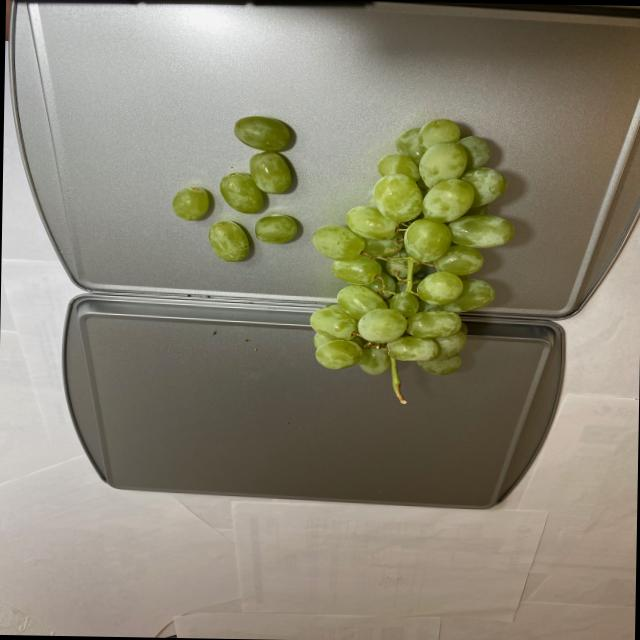grapes: (167, 104, 518, 408), (306, 106, 520, 410), (169, 112, 308, 268)
